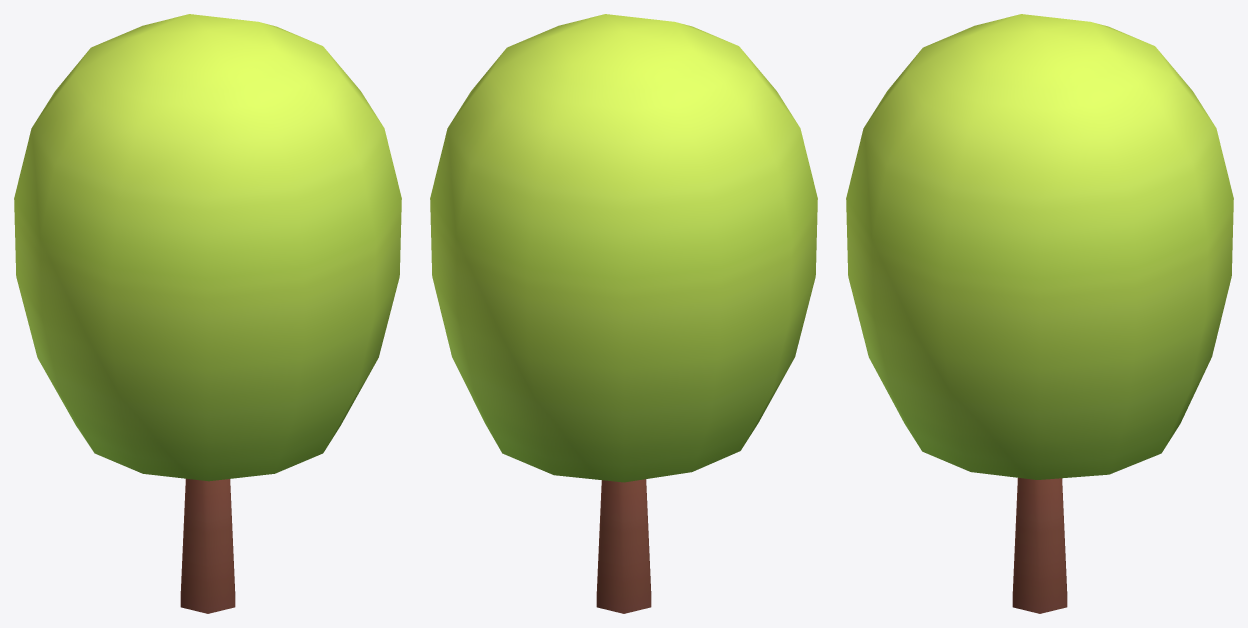
Rendered from city2-tree-04.glb.
3 views of the same model, side by side, from view 1: azimuth 30°, elevation 25°; view 2: azimuth 150°, elevation 25°; view 3: azimuth 270°, elevation 25° (orthographic).
Visible parts, largest first — view 1: Tree_04; view 2: Tree_04; view 3: Tree_04.
Boxes of the visible parts, left/top/right/bottom form: Tree_04: left=14, top=14, right=401, bottom=613; Tree_04: left=430, top=14, right=817, bottom=613; Tree_04: left=846, top=14, right=1233, bottom=613.
Bounding box in the file's own units: 3.49 × 5.65 × 3.49.
1 material, 1 textured.
